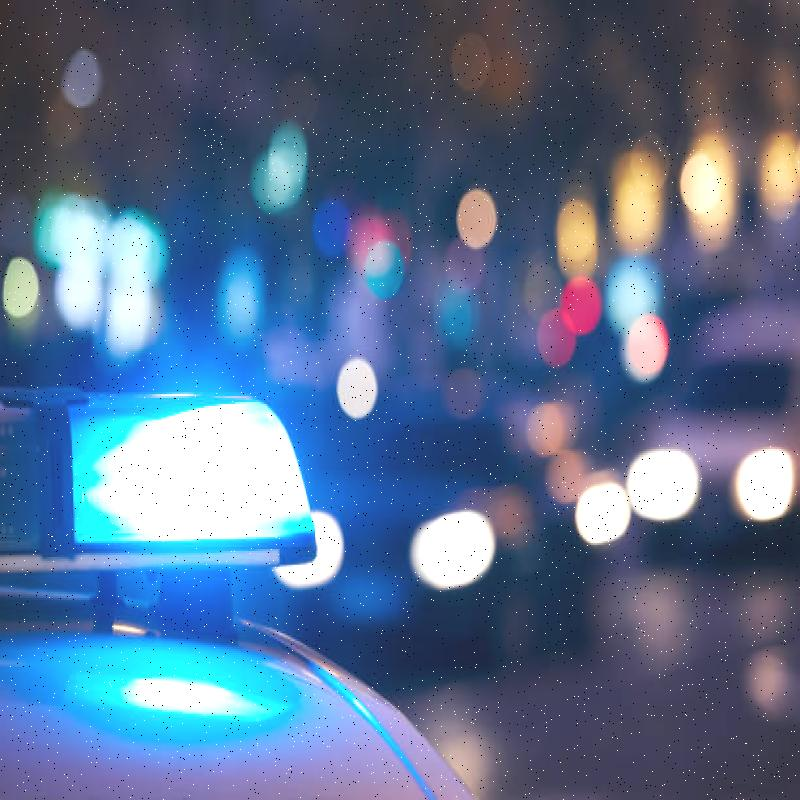AmbulanceSiren: (0, 369, 319, 659)
